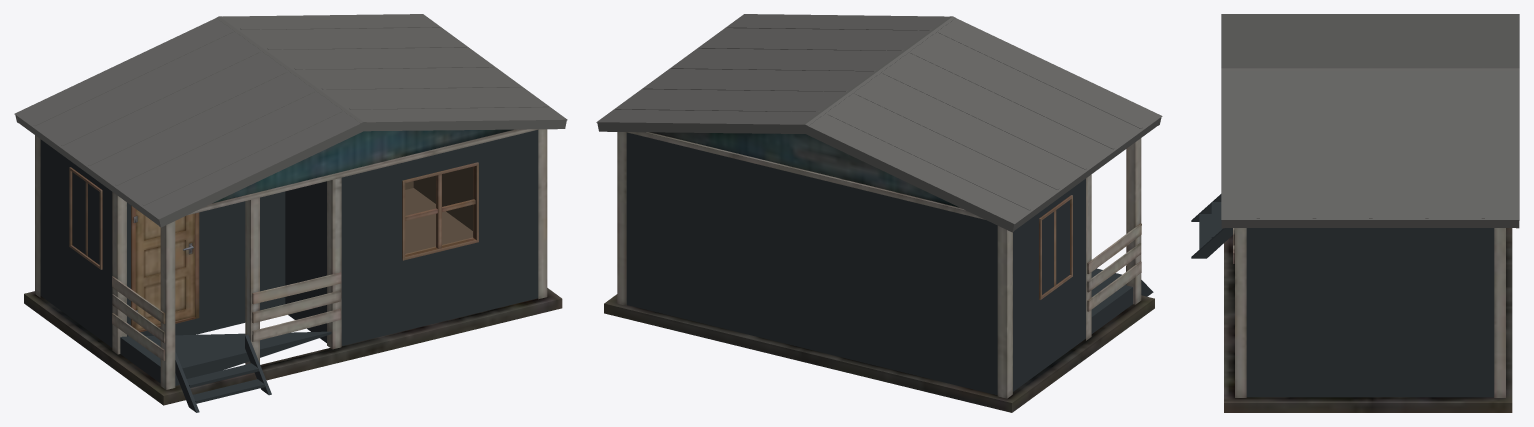
File: shed.lod1.glb
3 views of the same model, side by side, from view 1: azimuth 30°, elevation 25°; view 2: azimuth 150°, elevation 25°; view 3: azimuth 270°, elevation 25° (orthographic). The views are drawn at different scales.
Visible parts, largest first — view 1: Main_Exterior1_0, Main_Exterior2_0, Door_Exterior4_0; view 2: Main_Exterior1_0, Main_Exterior2_0, Door_Exterior4_0; view 3: Main_Exterior1_0, Main_Exterior2_0.
Part boxes in pixels (x1,y1,x2,y2): Main_Exterior1_0: (14,14,567,412); Main_Exterior2_0: (24,129,562,405); Door_Exterior4_0: (133,129,538,330); Main_Exterior1_0: (596,14,1162,395); Main_Exterior2_0: (604,132,1154,412); Door_Exterior4_0: (626,132,985,219); Main_Exterior1_0: (1191,14,1519,397); Main_Exterior2_0: (1224,228,1512,412).
Bounding box in the file's own units: 6 × 3.31 × 4.04.
3 materials, 2 textured.
